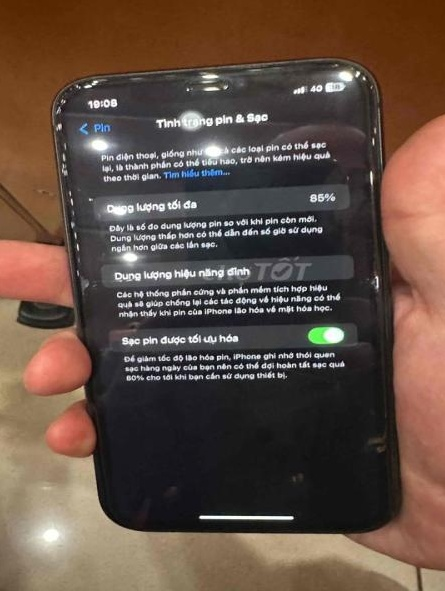scratch: (50, 72, 98, 302), (368, 118, 385, 296), (317, 55, 385, 92)
